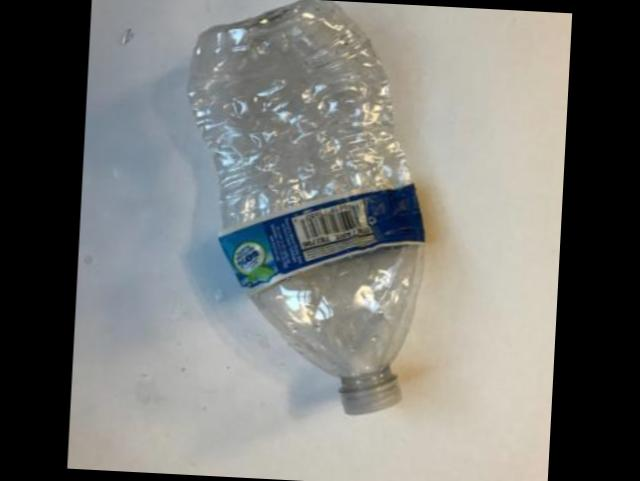plastic: (187, 0, 422, 415)
